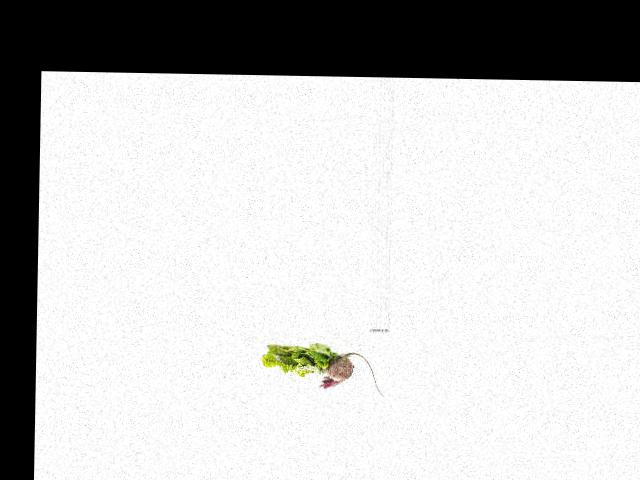beet: (318, 351, 386, 397)
